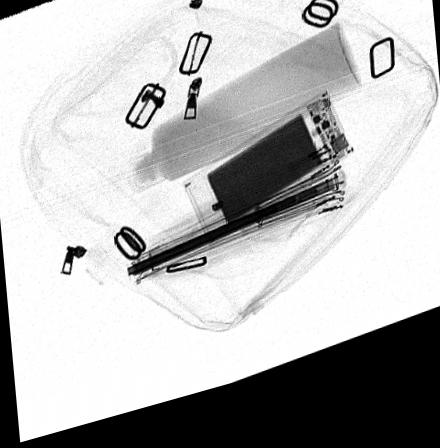Powerbank: (180, 109, 354, 260)
